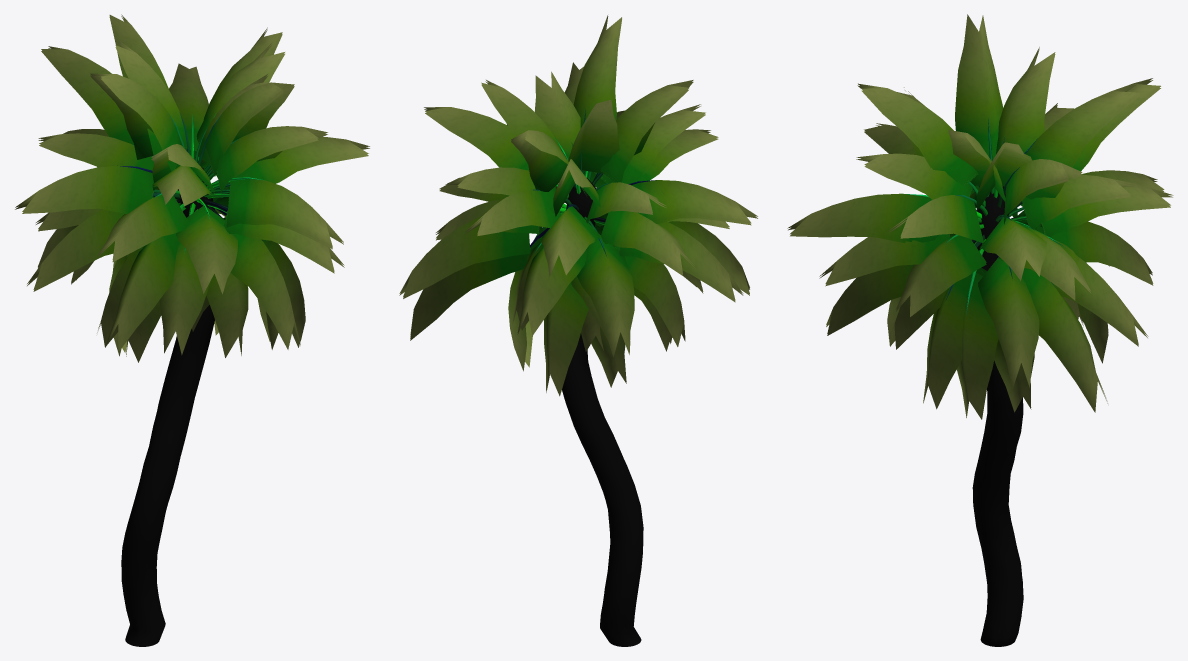
The model's file is SM-Palm-02.FBX.
3 views of the same model, side by side, from view 1: azimuth 30°, elevation 25°; view 2: azimuth 150°, elevation 25°; view 3: azimuth 270°, elevation 25° (orthographic). The views are drawn at different scales.
Visible parts, largest first — view 1: SM-Palm-02; view 2: SM-Palm-02; view 3: SM-Palm-02.
Part boxes in pixels (x1=…): SM-Palm-02: x1=15, y1=14, x2=369, y2=646; SM-Palm-02: x1=399, y1=15, x2=757, y2=646; SM-Palm-02: x1=787, y1=14, x2=1173, y2=646.
Size of the model in its own units: 323 by 343 by 584.
